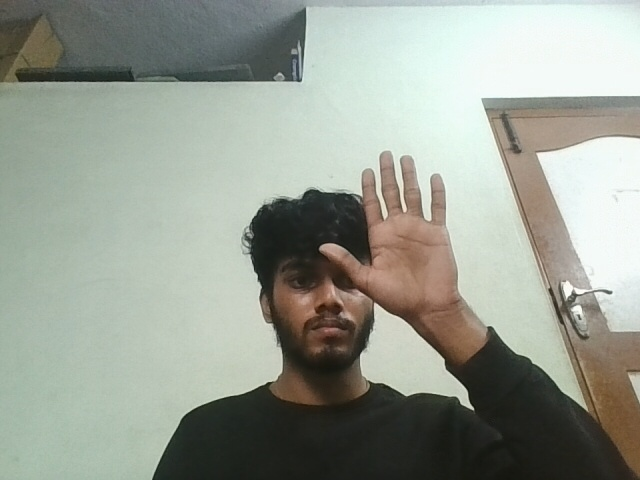Hello: (316, 144, 475, 319)
